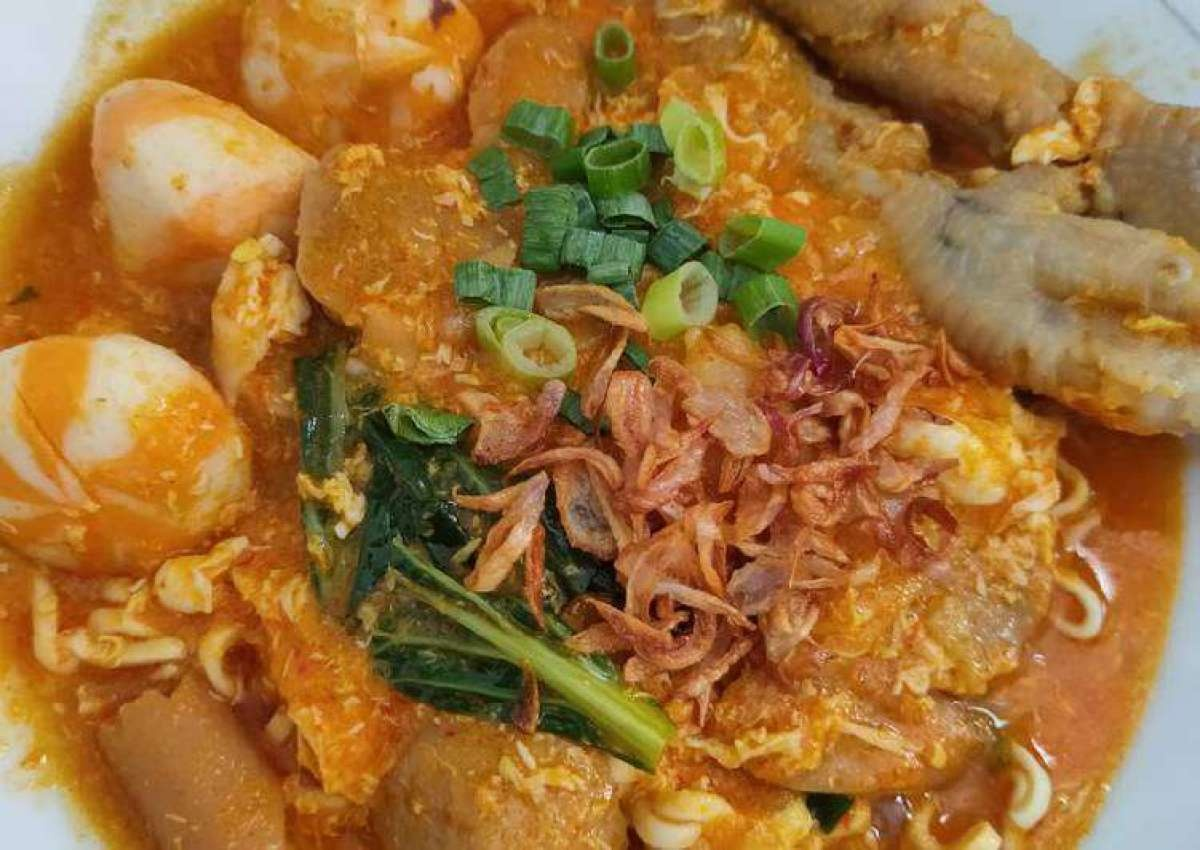seblak: (9, 2, 1200, 850)
